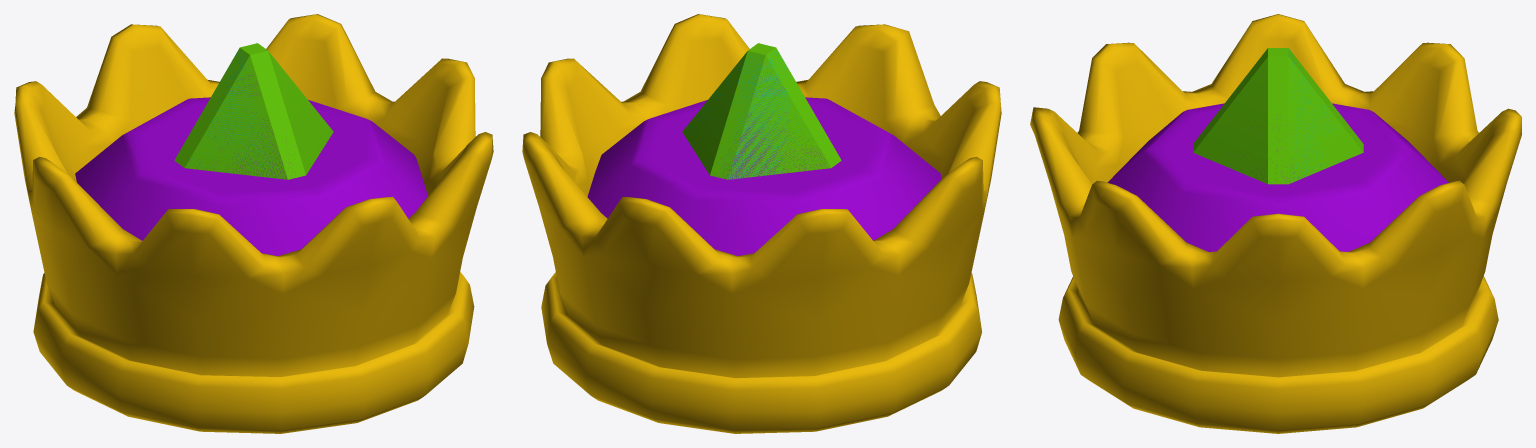
File: Treasure_Items.fbx
3 views of the same model, side by side, from view 1: azimuth 30°, elevation 25°; view 2: azimuth 150°, elevation 25°; view 3: azimuth 270°, elevation 25° (orthographic).
Parts seen in each view (by area): view 1: Crown, Gem_Purple, Crystal_Green, Crystal_Cyan; view 2: Crown, Gem_Purple, Crystal_Green, Crystal_Cyan, Crystal_Purple; view 3: Crown, Gem_Purple, Crystal_Green.
Part boxes in pixels (left/top/right/bottom): Crown: left=14, top=14, right=493, bottom=433; Gem_Purple: left=75, top=97, right=427, bottom=255; Crystal_Green: left=174, top=43, right=333, bottom=179; Crystal_Cyan: left=190, top=52, right=283, bottom=178; Crown: left=522, top=14, right=1001, bottom=433; Gem_Purple: left=587, top=97, right=941, bottom=255; Crystal_Green: left=682, top=43, right=841, bottom=179; Crystal_Cyan: left=689, top=50, right=809, bottom=179; Crystal_Purple: left=718, top=72, right=825, bottom=179; Crown: left=1030, top=14, right=1521, bottom=433; Gem_Purple: left=1107, top=103, right=1448, bottom=251; Crystal_Green: left=1193, top=48, right=1363, bottom=184.
Size of the model in its own units: 0.0344 by 0.0241 by 0.0348.
